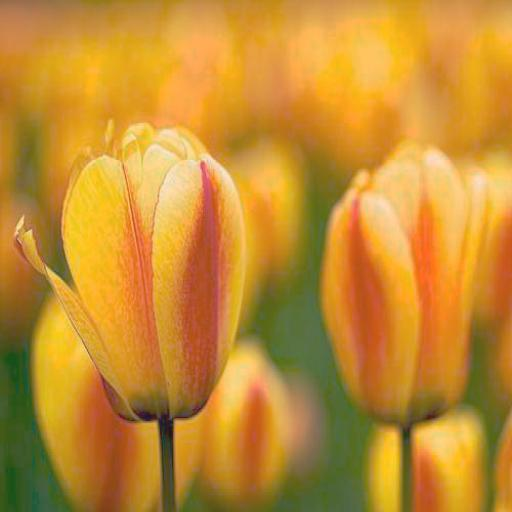tulip: (13, 115, 246, 420), (324, 140, 470, 427)
